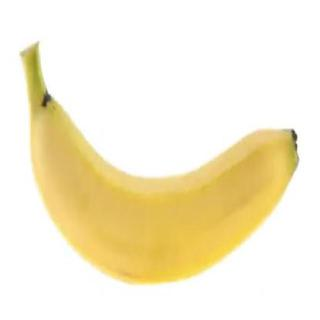banana: (19, 37, 300, 287)
